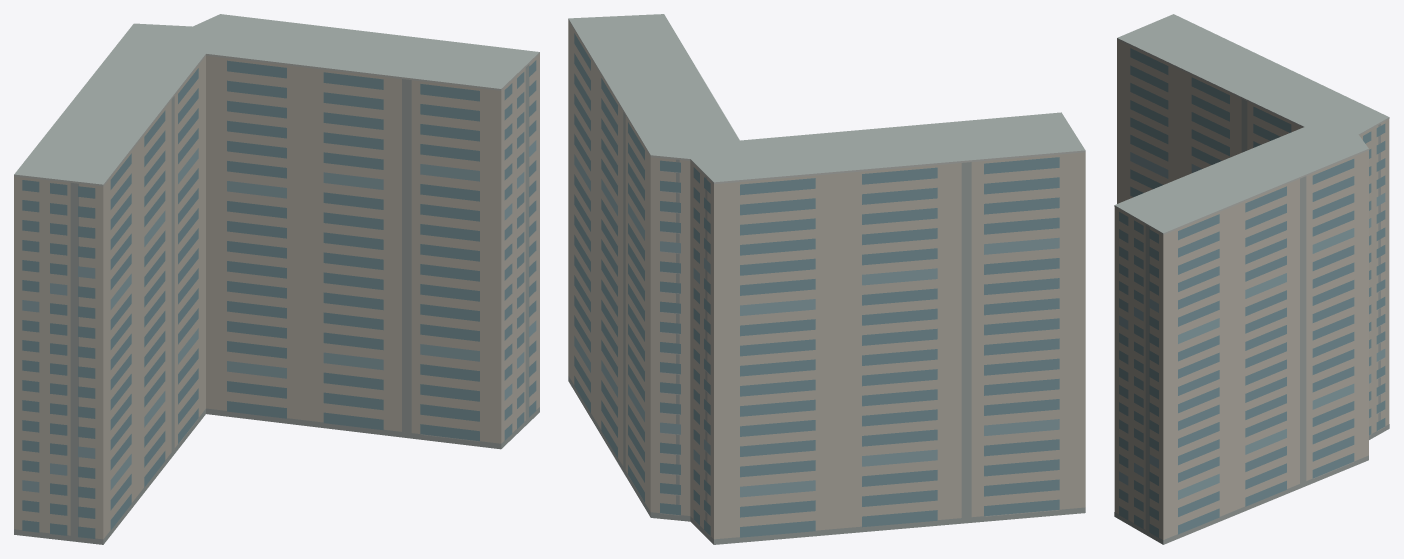
File: residential-ff939977-199e-44db-9de1-75a5526cc708.glb
3 views of the same model, side by side, from view 1: azimuth 30°, elevation 25°; view 2: azimuth 150°, elevation 25°; view 3: azimuth 270°, elevation 25° (orthographic). The views are drawn at different scales.
Visible parts, largest first — view 1: residential-ff939977-199e-44db-9de1-75a5526cc708.tmp; view 2: residential-ff939977-199e-44db-9de1-75a5526cc708.tmp; view 3: residential-ff939977-199e-44db-9de1-75a5526cc708.tmp.
Boxes of the visible parts, box(x1,y1,x2,y2) form: residential-ff939977-199e-44db-9de1-75a5526cc708.tmp: box(14, 14, 539, 544); residential-ff939977-199e-44db-9de1-75a5526cc708.tmp: box(568, 14, 1085, 544); residential-ff939977-199e-44db-9de1-75a5526cc708.tmp: box(1114, 14, 1389, 544).
Bounding box in the file's own units: 72.48 × 48 × 38.4.
